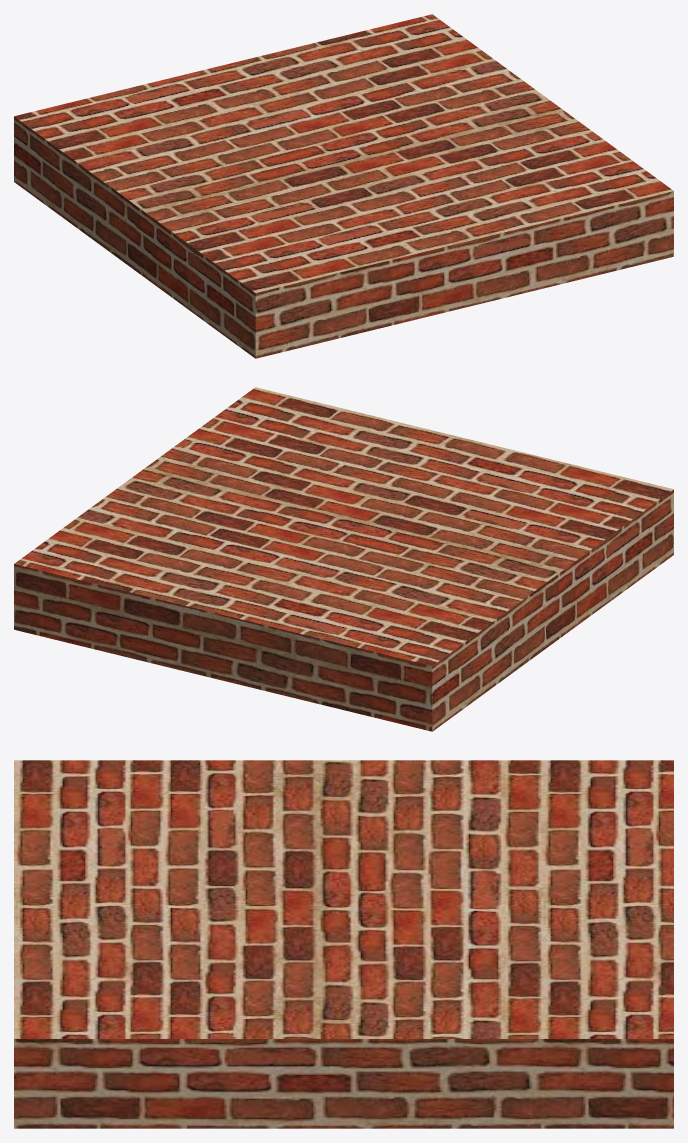
Rendered from tower_U1.fbx.
3 renders of one model, top to bottom at view 1: azimuth 30°, elevation 25°; view 2: azimuth 150°, elevation 25°; view 3: azimuth 270°, elevation 25°, orthographic. The views are drawn at different scales.
Visible parts, largest first — view 1: pCube1; view 2: pCube1; view 3: pCube1.
Part boxes in pixels (left/top/right/bottom): pCube1: left=14, top=14, right=673, bottom=358; pCube1: left=14, top=387, right=673, bottom=731; pCube1: left=14, top=760, right=673, bottom=1128.
Size of the model in its own units: 20 by 3 by 20.
Materials: 2 (2 with a texture image).
